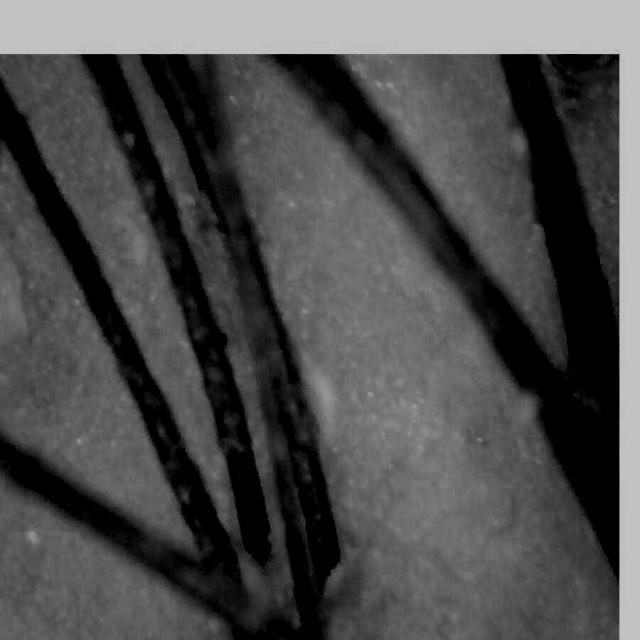s: (379, 588, 398, 614)
